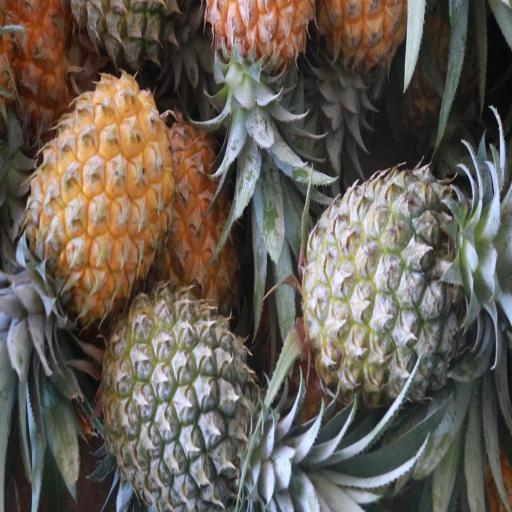Pineapple - v8 v1: (30, 73, 177, 317), (159, 122, 243, 318)
